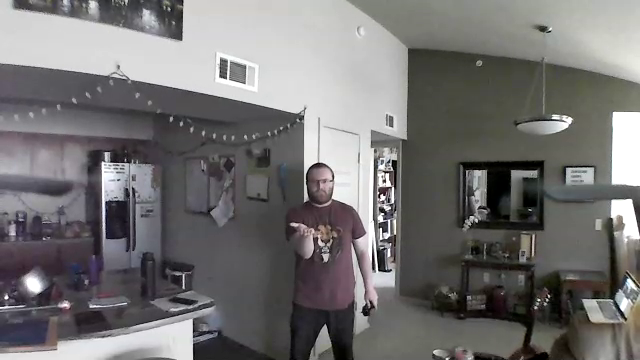land: (286, 218, 319, 241)
